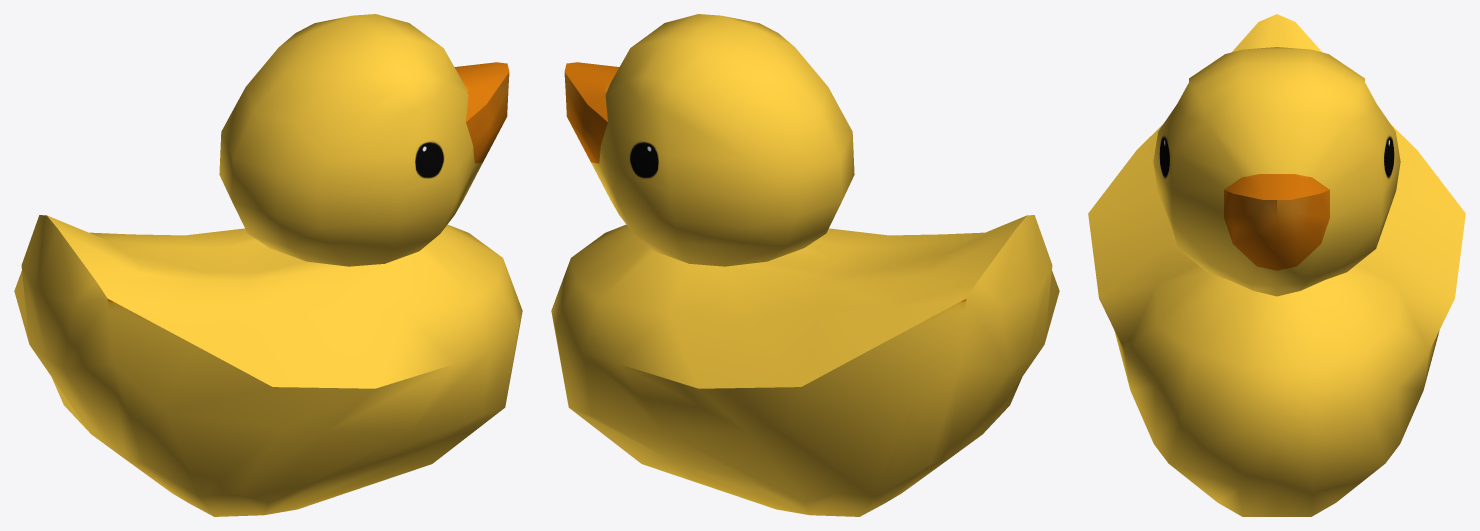
File: duck.fbx
The picture shows the model from 3 angles, left to right: view 1: azimuth 30°, elevation 25°; view 2: azimuth 150°, elevation 25°; view 3: azimuth 270°, elevation 25°; orthographic projection.
Visible parts, largest first — view 1: Plane; view 2: Plane; view 3: Plane.
Boxes of the visible parts, x1,y1,x2,y2 form: Plane: (14,14,522,516); Plane: (551,14,1059,516); Plane: (1088,14,1465,516).
Size of the model in its own units: 23.18 by 20.15 by 15.97.
1 material, 1 textured.
